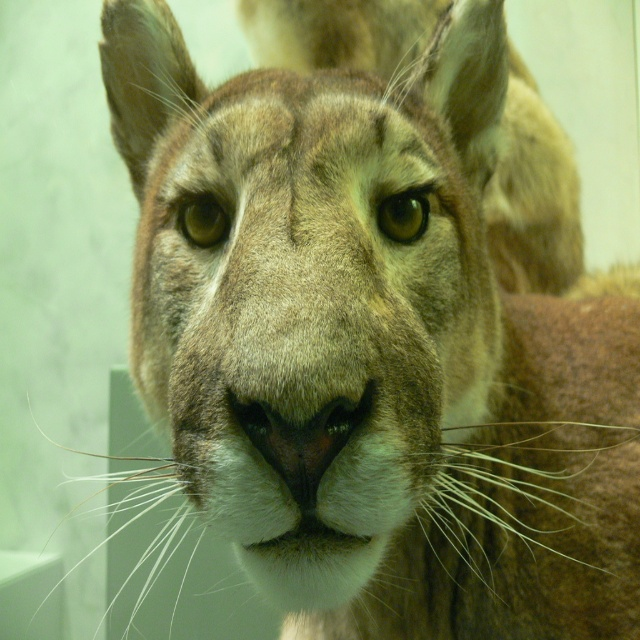Lion: (25, 0, 640, 640)
